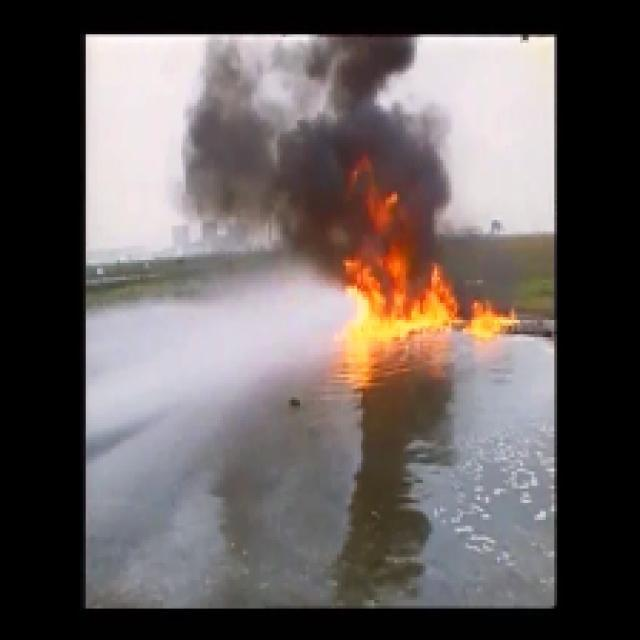Fire: (340, 272, 500, 338)
Smoke: (193, 112, 419, 232)
